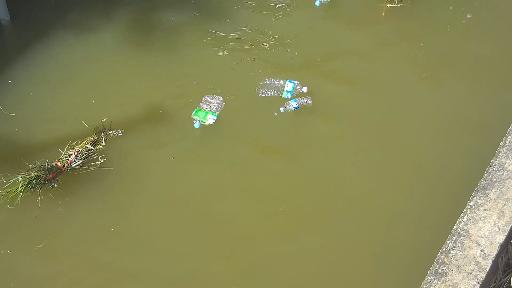plastic: (173, 97, 233, 132), (252, 79, 307, 93), (280, 98, 311, 113), (311, 0, 338, 6)
twig: (0, 118, 130, 196), (365, 0, 411, 8)
